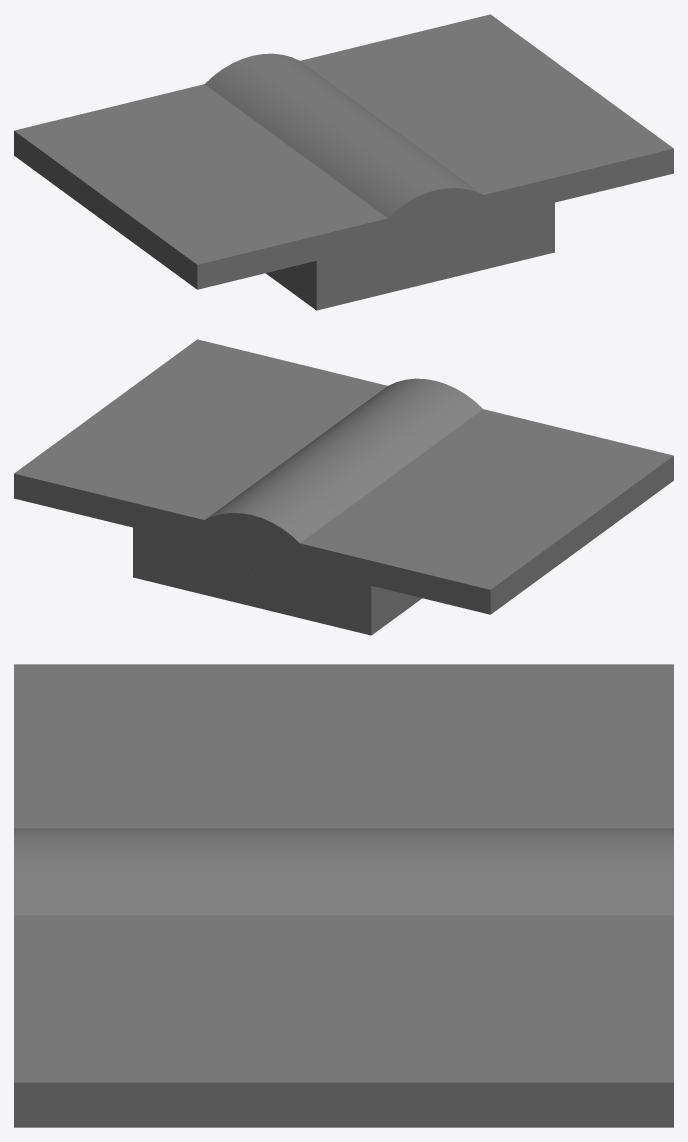
The picture shows the model from 3 angles, top to bottom: view 1: azimuth 30°, elevation 25°; view 2: azimuth 150°, elevation 25°; view 3: azimuth 270°, elevation 25°; orthographic projection. The views are drawn at different scales.
Parts seen in each view (by area): view 1: mesh_id4, mesh_id5; view 2: mesh_id4, mesh_id5; view 3: mesh_id4, mesh_id5.
Boxes of the visible parts, x1,y1,x2,y2 form: mesh_id4: (14, 14, 673, 310); mesh_id5: (205, 53, 483, 250); mesh_id4: (14, 339, 673, 635); mesh_id5: (204, 378, 482, 575); mesh_id4: (14, 664, 673, 1127); mesh_id5: (14, 828, 673, 915).
Size of the model in its own units: 0.512 by 0.0939 by 0.3413.
Materials: 2 (2 with a texture image).
